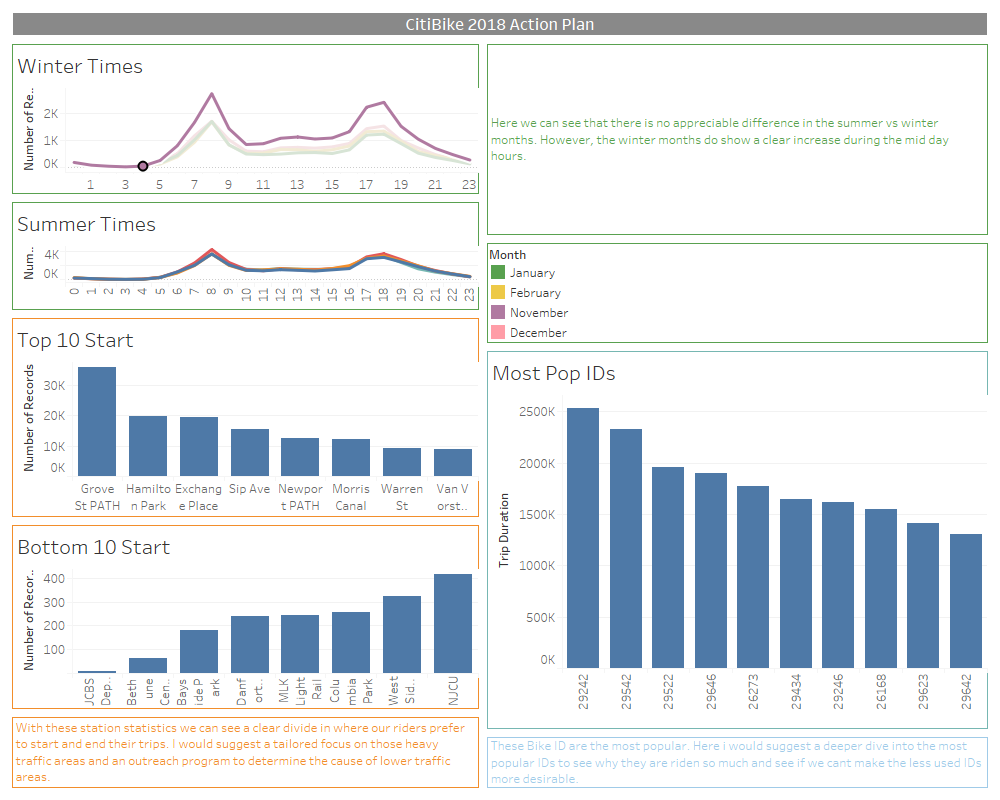

What the dashboard file says about the page in this screenshot:
{"tool":"tableau","page":{"name":"Dashboard 1","canvas":[1000,800],"ordinal":0},"visuals":[{"type":"text","box":[8,8,984,32]},{"type":"worksheet","title":"Winter Times","mark":"Automatic","rows":["Number of Records"],"cols":["Start Time"],"box":[8,40,475,158.3]},{"type":"text","box":[483,40,509,199]},{"type":"worksheet","title":"Summer Times","mark":"Automatic","rows":["Number of Records"],"cols":["Start Time"],"box":[8,198.3,475,115.7]},{"type":"legend","title":"Winter Times","param":"[federated.145mlmc0anhef31atrsbf0bf00d5].[mn:Start Time:ok]","box":[483,239,509,108]},{"type":"worksheet","title":"Top 10 Start","mark":"Automatic","rows":["Number of Records"],"cols":["Start Station Name"],"box":[8,314,475,207]},{"type":"worksheet","title":"Most Pop IDs","mark":"Automatic","rows":["Trip Duration"],"cols":["Bike ID"],"box":[483,347,509,386]},{"type":"worksheet","title":"Bottom 10 Start","mark":"Automatic","rows":["Number of Records"],"cols":["Start Station Name"],"box":[8,521,475,192]},{"type":"text","box":[8,713,475,79]},{"type":"text","box":[483,733,509,59]}]}

Visuals, with their boxes in screenshot pixels (x1, y1, x2, y2), scaled from the page's 1000x800 canvas onto the 1000x800 screenshot:
text: box=[8, 8, 992, 40]
"Winter Times" worksheet: box=[8, 40, 483, 198]
text: box=[483, 40, 992, 239]
"Summer Times" worksheet: box=[8, 198, 483, 314]
"Winter Times" legend: box=[483, 239, 992, 347]
"Top 10 Start" worksheet: box=[8, 314, 483, 521]
"Most Pop IDs" worksheet: box=[483, 347, 992, 733]
"Bottom 10 Start" worksheet: box=[8, 521, 483, 713]
text: box=[8, 713, 483, 792]
text: box=[483, 733, 992, 792]
